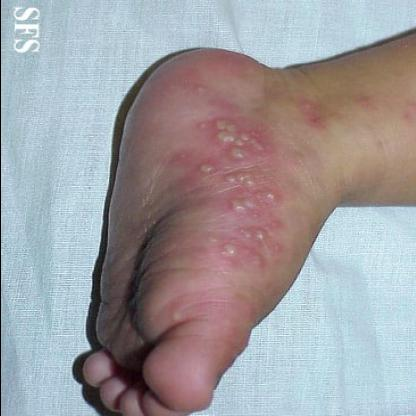Fire ant: (177, 110, 284, 272), (293, 93, 323, 127), (183, 72, 211, 104), (162, 306, 186, 326)
